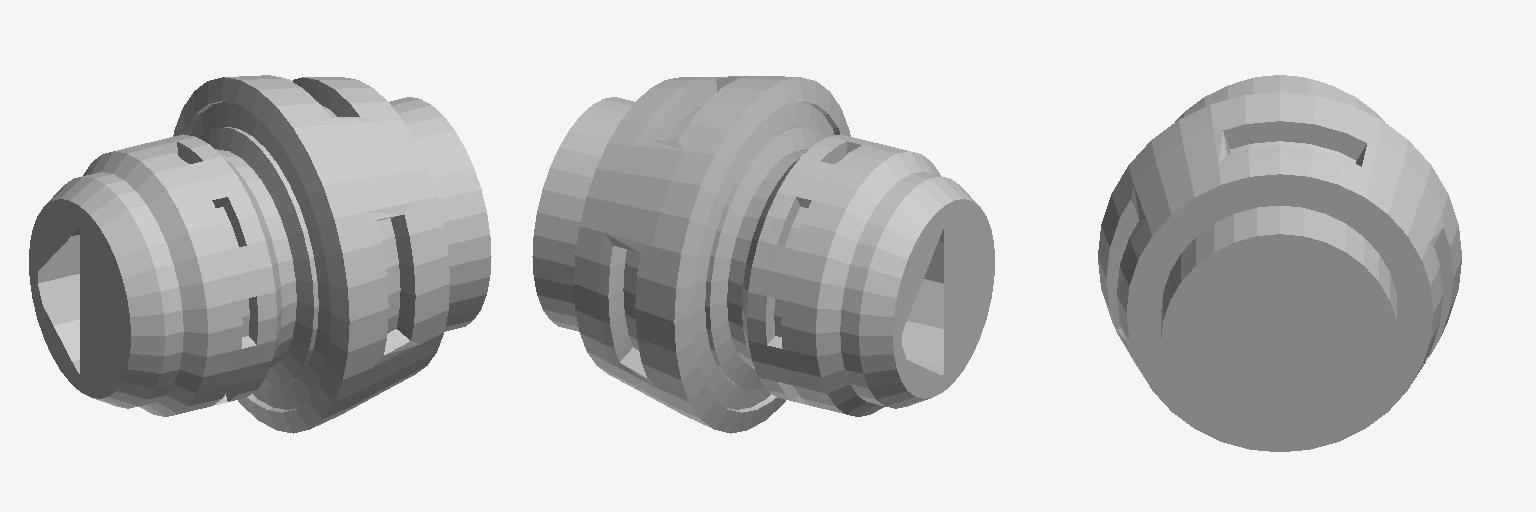
File: shoulder_r.obj
3 views of the same model, side by side, from view 1: azimuth 30°, elevation 25°; view 2: azimuth 150°, elevation 25°; view 3: azimuth 270°, elevation 25° (orthographic).
Visible parts, largest first — view 1: shoulder_r_Cylinder.002; view 2: shoulder_r_Cylinder.002; view 3: shoulder_r_Cylinder.002.
Part boxes in pixels (bbox=[...]): shoulder_r_Cylinder.002: bbox=[29, 75, 491, 433]; shoulder_r_Cylinder.002: bbox=[532, 76, 994, 433]; shoulder_r_Cylinder.002: bbox=[1098, 75, 1461, 451].
Bounding box in the file's own units: 0.3509 × 0.3147 × 0.3147.